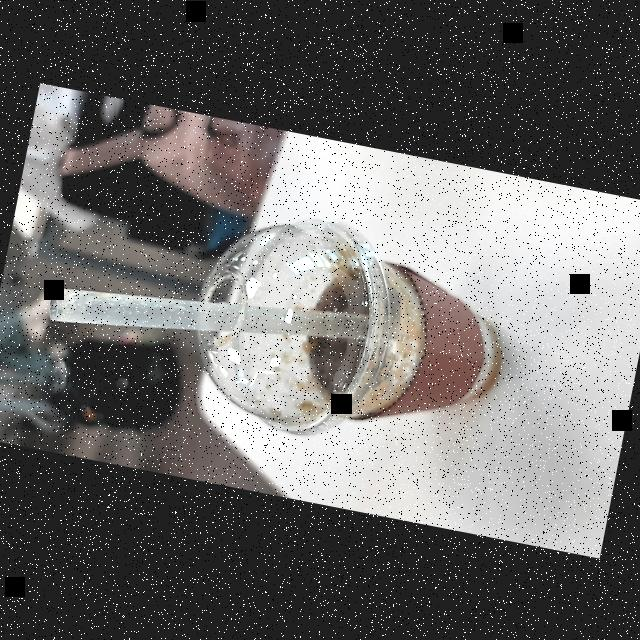plastic_cup: (178, 196, 529, 475)
plastic_cup_lid: (172, 190, 410, 455)
straw: (47, 293, 373, 336)
